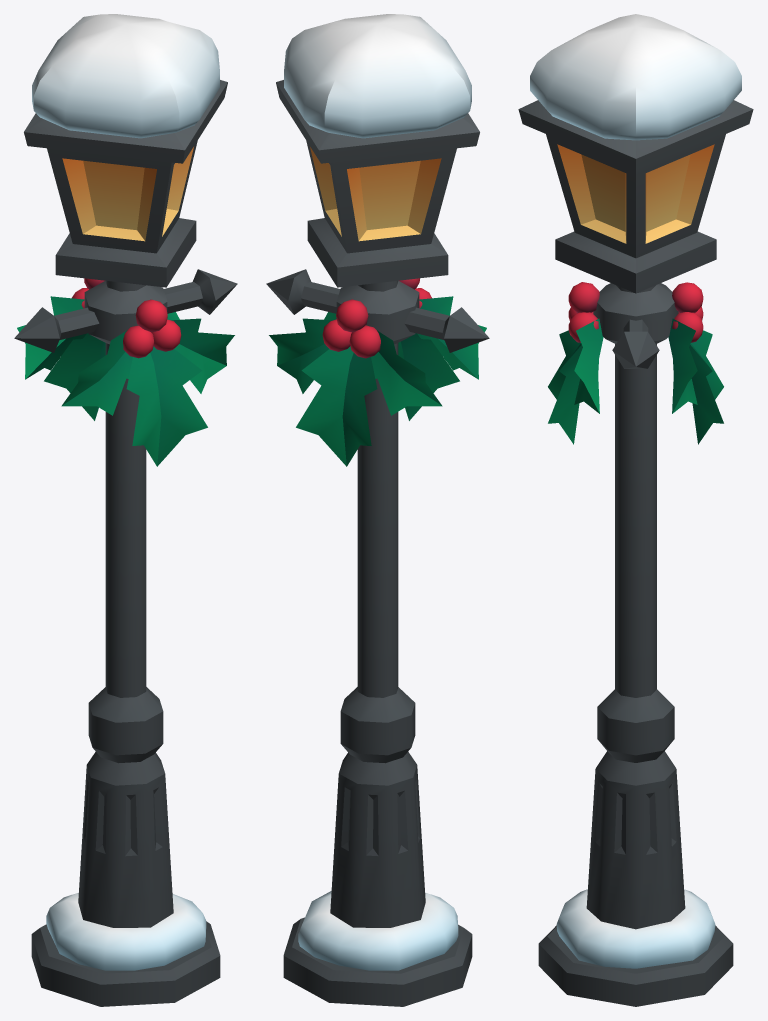
The model's file is lantern_decorated.obj.
3 renders of one model, left to right at view 1: azimuth 30°, elevation 25°; view 2: azimuth 150°, elevation 25°; view 3: azimuth 270°, elevation 25°, orthographic.
Visible parts, largest first — view 1: lantern_decorated; view 2: lantern_decorated; view 3: lantern_decorated.
Boxes of the visible parts, bbox=[...] form: lantern_decorated: bbox=[14, 14, 237, 1006]; lantern_decorated: bbox=[266, 14, 489, 1006]; lantern_decorated: bbox=[518, 14, 753, 1006].
Size of the model in its own units: 0.9912 by 3.99 by 0.9051.
Materials: 2 (2 with a texture image).
